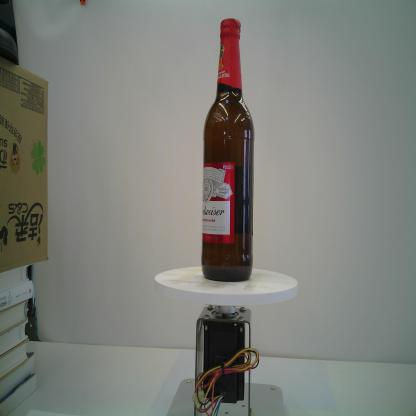Alcohol: (201, 18, 255, 284)
